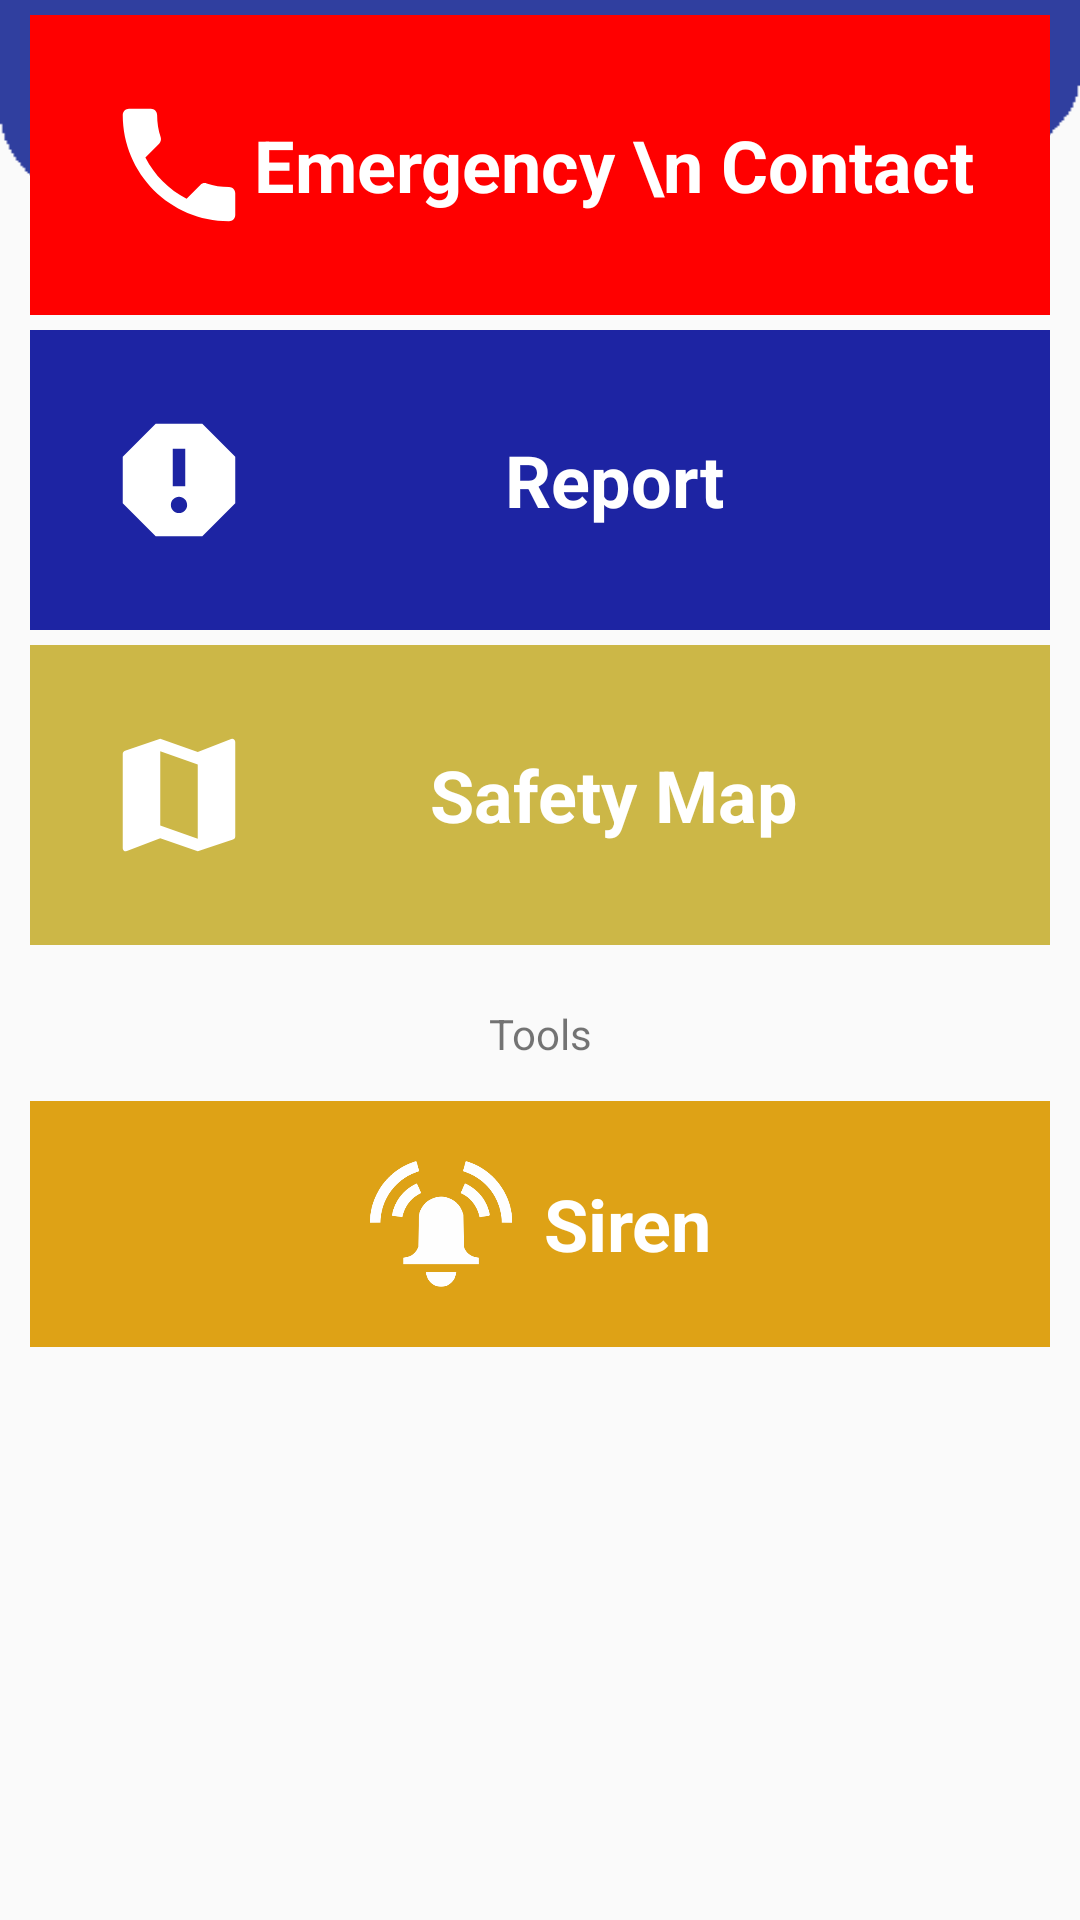

Icon bounding boxes for this 1080w x 1920h phone screenshot, format (x1, y1, x2, y2):
call: (122, 108, 236, 222)
